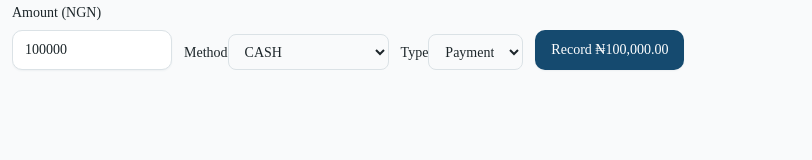
Scenario: recording a payment that is refused › shows the server's own reason: Invoice is cancelled
This screenshot has width=812, height=160.
Replace the text in the field labelled "Amount (NGN)" with "100" at (92, 50), box [12, 30, 172, 70]
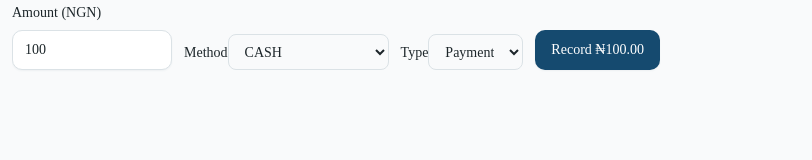
Click the button "Record ₦100.00" at (598, 50), box [535, 30, 660, 70]
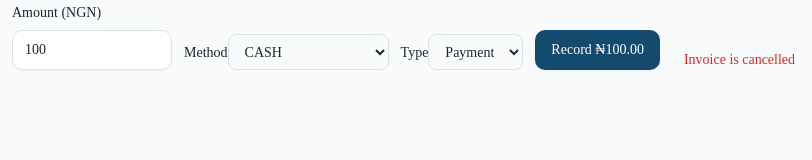
Result: the text "Invoice is cancelled" is shown at [684, 50, 795, 70]
